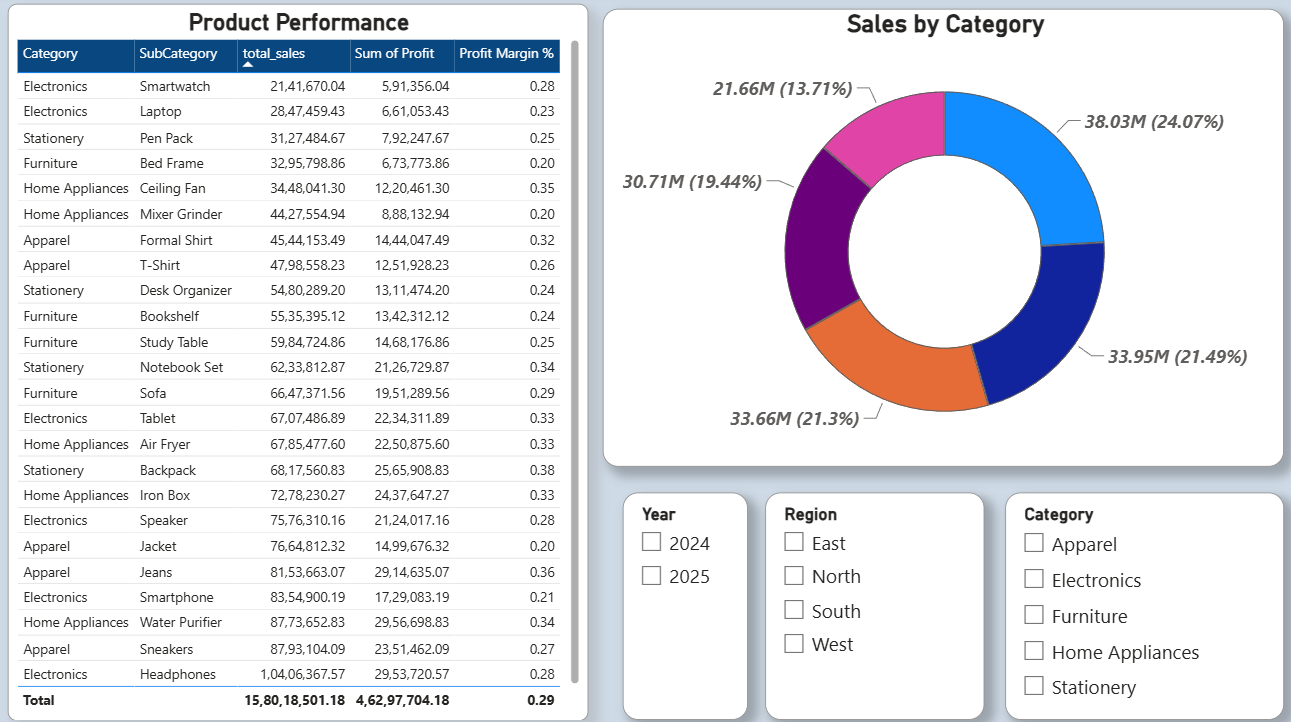

The dashboard page shown, as its layout file describes it:
{"tool":"powerbi","page":{"name":" Product Analysis","canvas":[1280,720],"ordinal":1},"visuals":[{"type":"tableEx","title":"Product  Performance","fields":{"Values":["dim_product.Category","dim_product.SubCategory","dim_customer.total_sales","Sum(fact_sales.Profit)","dim_customer.Profit Margin %"]},"box":[13.3,8.3,568.3,701.7],"z":0},{"type":"donutChart","title":"Sales by Category","fields":{"Category":["dim_product.Category"],"Y":["Sum(fact_sales.SalesAmount)"]},"box":[595,13.3,666.7,448.3],"z":1000},{"type":"slicer","title":"Sales by Category","fields":{"Values":["fact_sales.OrderDate.Variation.Date Hierarchy.Year"]},"box":[614.8,487.1,122.1,222.3],"z":2000},{"type":"slicer","title":"Sales by Category","fields":{"Values":["dim_store.Region"]},"box":[754.7,487.1,214.1,222.3],"z":3000},{"type":"slicer","title":"Sales by Category","fields":{"Values":["dim_product.Category"]},"box":[989.4,487.1,273.1,222.3],"z":4000}]}

Visuals, with their boxes in screenshot pixels (x1, y1, x2, y2), scaled from the page's 1280x720 canvas onto the 1291x722 screenshot:
"Product  Performance" tableEx: 13 8 587 712
"Sales by Category" donutChart: 600 13 1273 463
"Sales by Category" slicer: 620 488 743 711
"Sales by Category" slicer: 761 488 977 711
"Sales by Category" slicer: 998 488 1273 711
